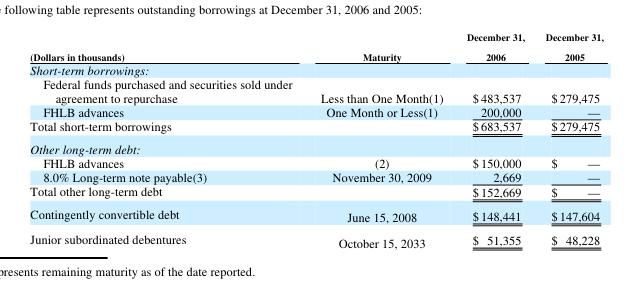table: (29, 29, 603, 250)
table column: (29, 29, 305, 250), (305, 29, 454, 250), (454, 29, 534, 250), (534, 29, 603, 250)
table column header: (29, 29, 603, 62)
table projected row header: (29, 137, 603, 155), (29, 62, 603, 76)
table row: (29, 29, 603, 62), (29, 76, 603, 103), (29, 202, 603, 227), (29, 227, 603, 250), (29, 118, 603, 137), (29, 183, 603, 202), (29, 137, 603, 155), (29, 103, 603, 118), (29, 62, 603, 76), (29, 155, 603, 169), (29, 169, 603, 183)
